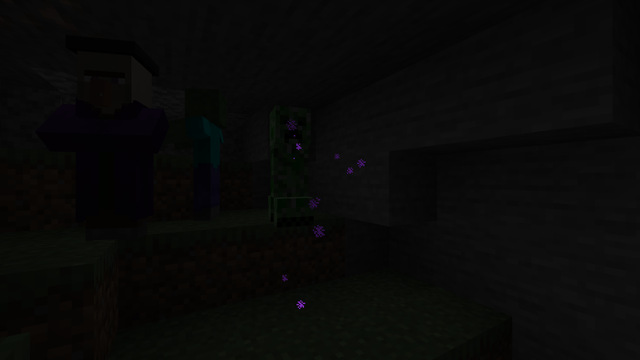creepers: (263, 97, 316, 226)
sorcieres: (71, 35, 152, 246)
zombies: (185, 88, 229, 222)
